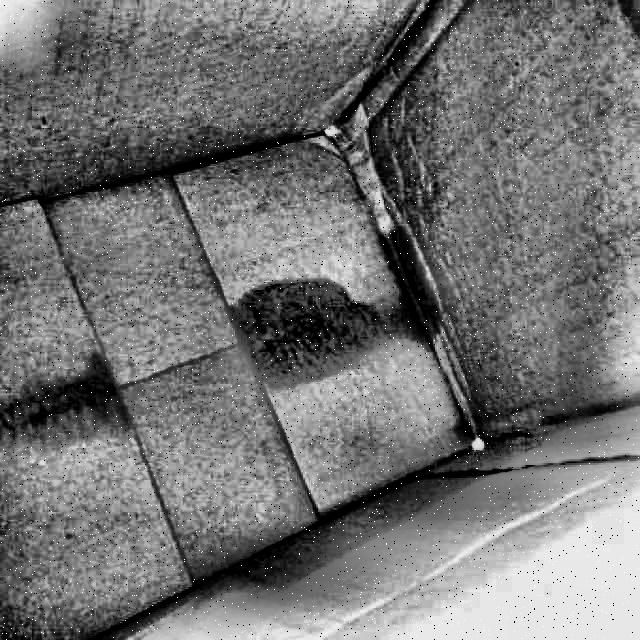box: (0, 0, 640, 640)
wet: (239, 239, 423, 389)
